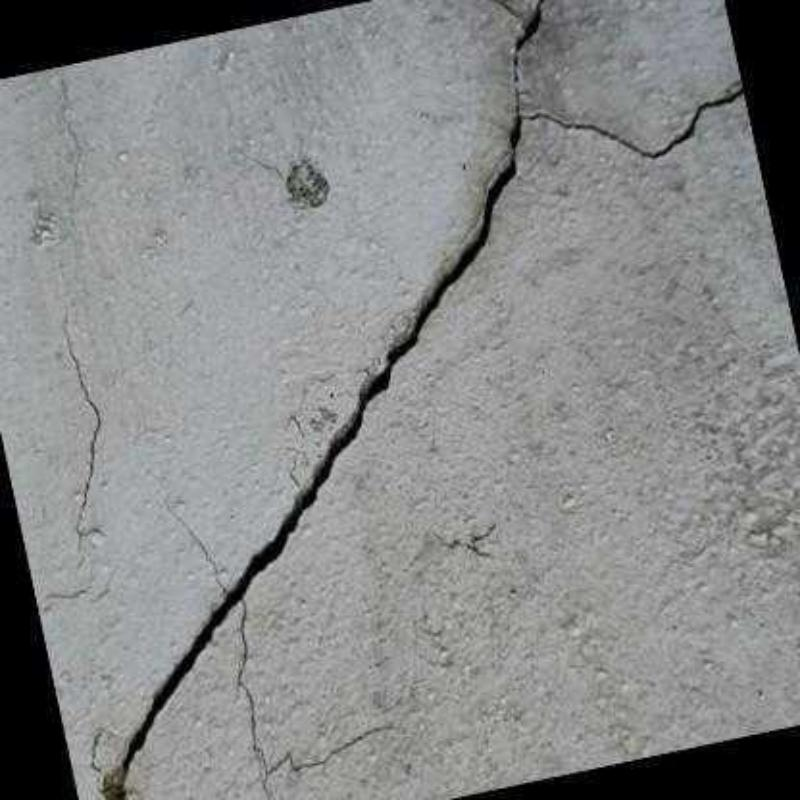pothole: (117, 2, 745, 798), (63, 315, 102, 542), (238, 602, 273, 798), (271, 723, 390, 773), (167, 508, 229, 596)
